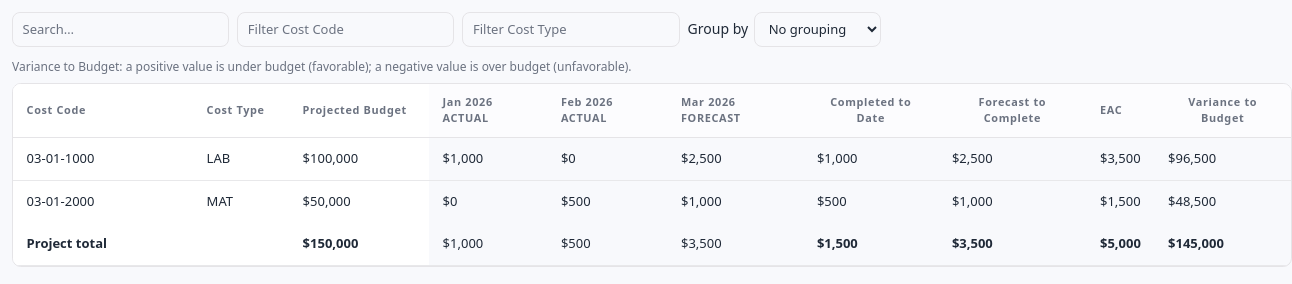
Test: ForecastMonthlyMatrixTable › filters rows by Cost Code
Type "2000" into the search field named "Filter by Cost Code" at (346, 29), box top-left (237, 12), bottom-right (454, 47)
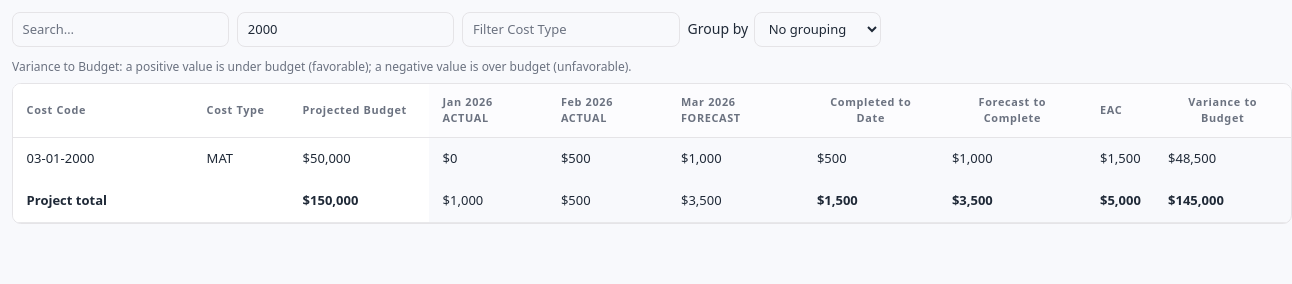
Check: the text "03-01-2000" is shown, box top-left (27, 149), bottom-right (94, 167)
Check: the text "03-01-1000" is gone
